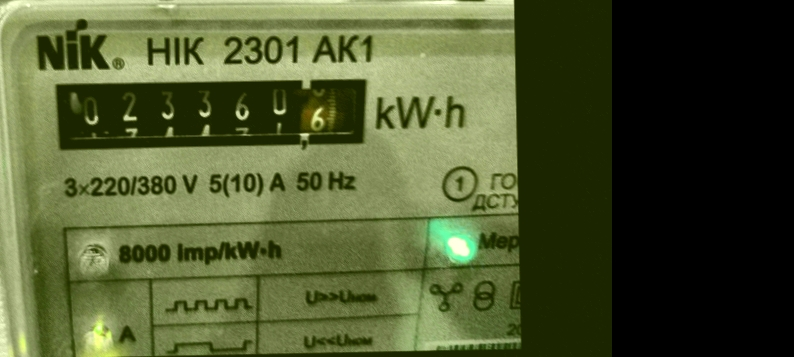0: (78, 92, 100, 125), (269, 84, 287, 116)
2: (116, 88, 140, 123)
3: (154, 87, 176, 120), (193, 86, 213, 117)
6: (229, 88, 250, 120), (304, 101, 326, 131)
screen: (36, 59, 379, 164)
